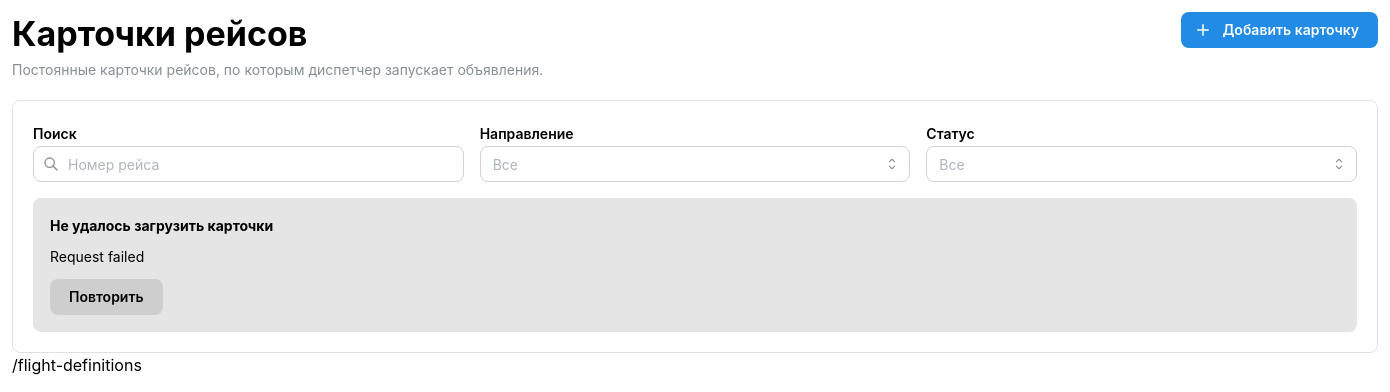
FlightDefinitionsPage › shows a retry action when the list request fails
The width and height of the screenshot is (1390, 392).
expect the text "Не удалось загрузить карточки" is shown: met, box [50,215,273,237]
Click the button "Повторить".
click(106, 297)  # box [50,279,163,315]
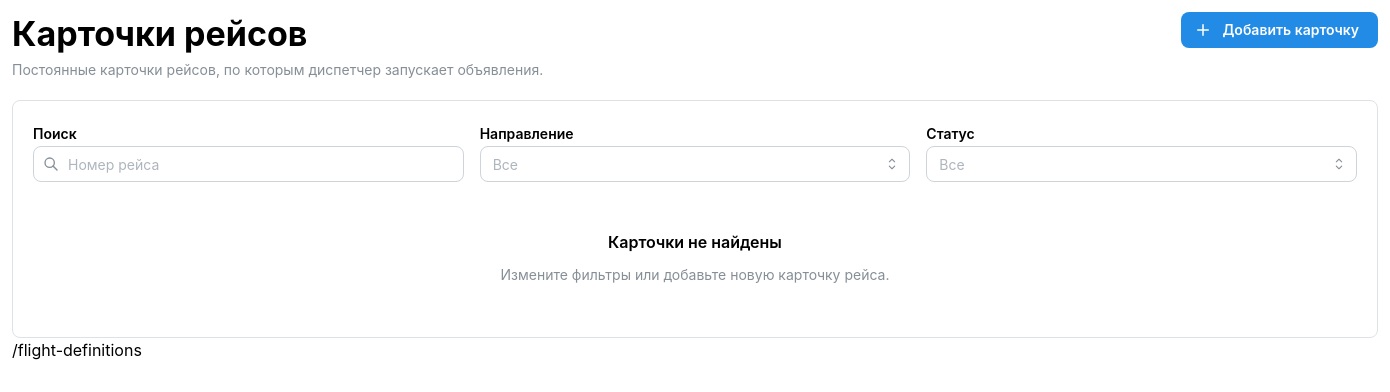
expect the text "Карточки не найдены" is shown: met, box [608,230,782,255]
